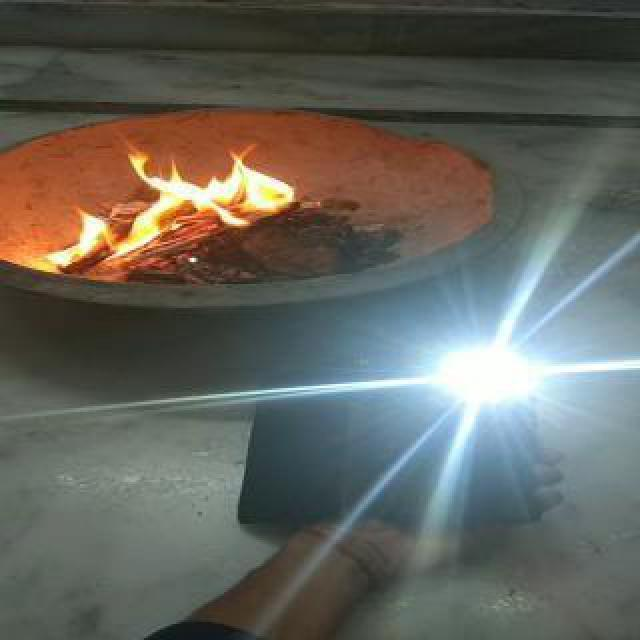Fire: (32, 134, 314, 264)
